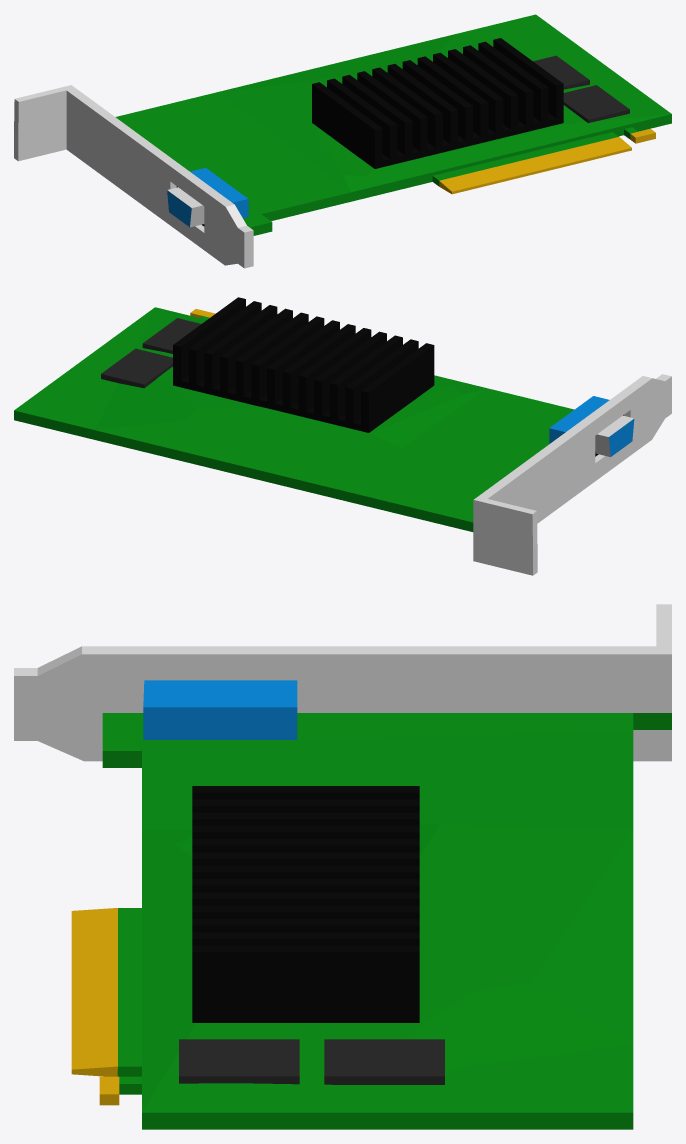
File: deforce2_mx.fbx
The picture shows the model from 3 angles, top to bottom: view 1: azimuth 30°, elevation 25°; view 2: azimuth 150°, elevation 25°; view 3: azimuth 270°, elevation 25°; orthographic projection. The views are drawn at different scales.
Visible parts, largest first — view 1: Plane.001, Cube, Cube.004, Cube.003; view 2: Plane.001, Cube, Cube.003, Cube.004; view 3: Plane.001, Cube, Cube.003, Cube.004.
Part boxes in pixels (<box>): Plane.001: <box>14,14,671,268</box>; Cube: <box>312,38,563,168</box>; Cube.004: <box>563,85,629,123</box>; Cube.003: <box>533,55,589,89</box>; Plane.001: <box>14,307,671,575</box>; Cube: <box>173,297,434,432</box>; Cube.003: <box>101,348,172,388</box>; Cube.004: <box>142,318,200,353</box>; Plane.001: <box>14,604,671,1129</box>; Cube: <box>192,786,419,1022</box>; Cube.003: <box>324,1039,444,1084</box>; Cube.004: <box>179,1039,299,1084</box>.
Size of the model in its own units: 127 by 16.5 by 78.19.
